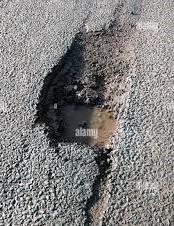pothole: (35, 23, 138, 153)
